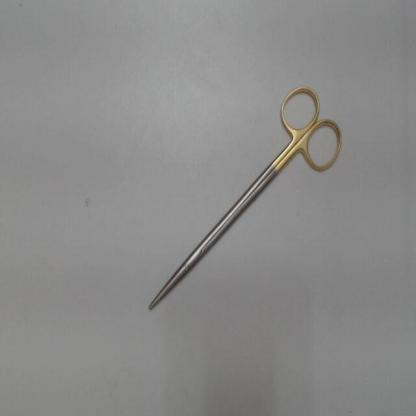7 Metzenbaum Scissors: (145, 77, 346, 314)
